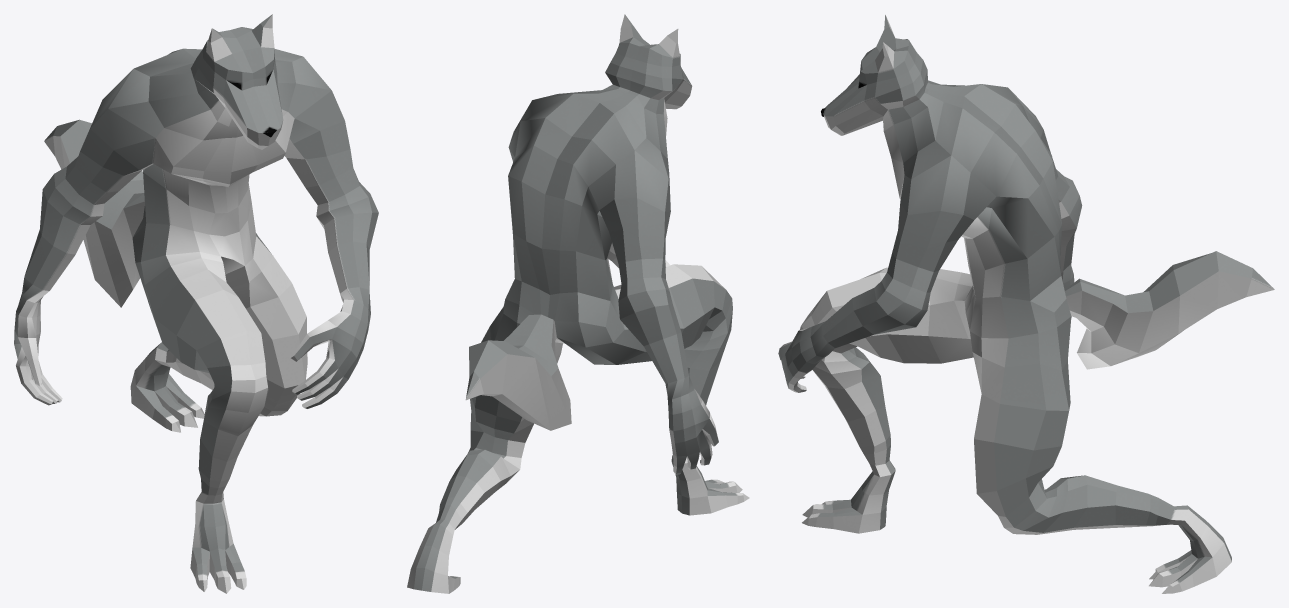
Rendered from WolfWalk(30).obj.
The picture shows the model from 3 angles, left to right: view 1: azimuth 30°, elevation 25°; view 2: azimuth 150°, elevation 25°; view 3: azimuth 270°, elevation 25°; orthographic projection. The views are drawn at different scales.
Visible parts, largest first — view 1: Box001; view 2: Box001; view 3: Box001.
Part boxes in pixels (bbox=[...]): Box001: bbox=[14, 14, 378, 593]; Box001: bbox=[407, 14, 749, 593]; Box001: bbox=[778, 15, 1274, 593].
Size of the model in its own units: 70.61 by 126 by 110.
